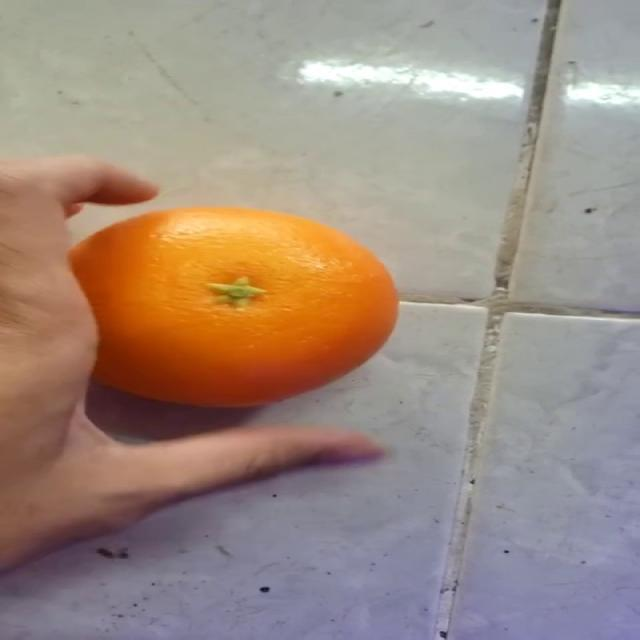Orange: (66, 204, 399, 409)
